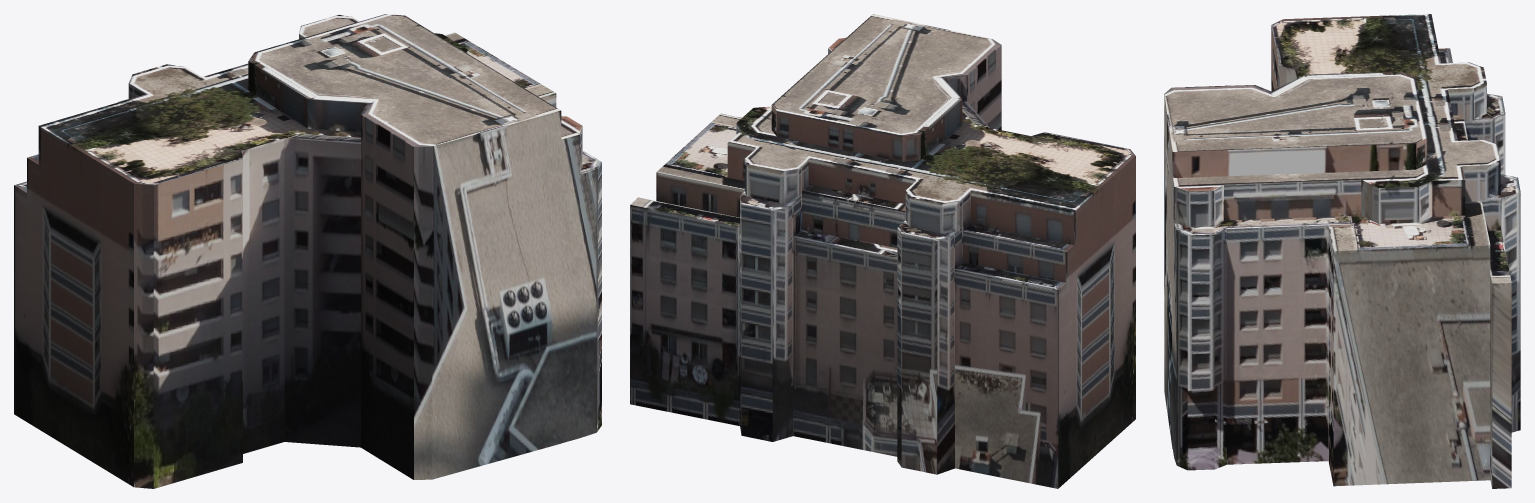
The picture shows the model from 3 angles, left to right: view 1: azimuth 30°, elevation 25°; view 2: azimuth 150°, elevation 25°; view 3: azimuth 270°, elevation 25°; orthographic projection. The views are drawn at different scales.
Parts seen in each view (by area): view 1: Z_UP; view 2: Z_UP; view 3: Z_UP.
Boxes of the visible parts, x1,y1,x2,y2 form: Z_UP: (14, 14, 601, 488); Z_UP: (630, 14, 1135, 488); Z_UP: (1164, 14, 1520, 488).
Bounding box in the file's own units: 35.61 × 24.01 × 26.11.
2 materials, 1 textured.
